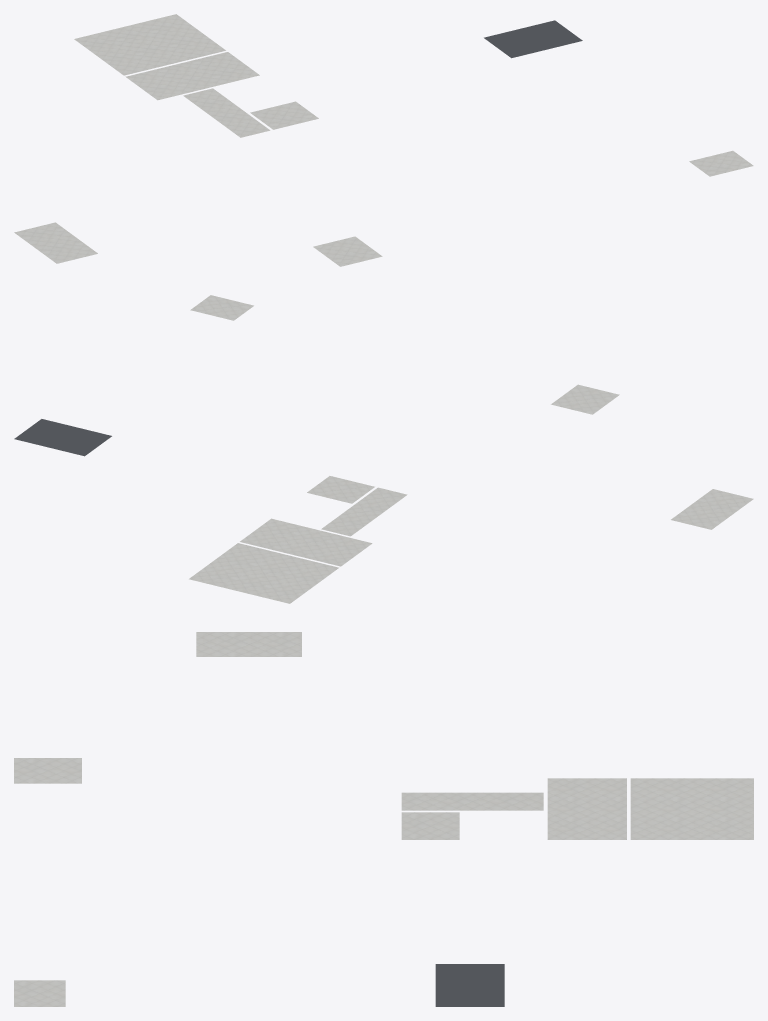
Rendered from 29_n2_servicios_y_bodegas.glb.
The picture shows the model from 3 angles, top to bottom: view 1: azimuth 30°, elevation 25°; view 2: azimuth 150°, elevation 25°; view 3: azimuth 270°, elevation 25°; orthographic projection. The views are drawn at different scales.
Parts seen in each view (by area): view 1: piso · Bodega de simuladores, piso · Taller de ingeniería biomédica · mantenimiento de sim, piso · Bodega de simulación háptica, piso · Moulage y preparación de escenarios, piso · Bodega y carga de cascos, piso · Archivo y consumibles, piso · Ropería, séptico e intendencia, piso · Bodega de UCI; view 2: piso · Bodega de simuladores, piso · Taller de ingeniería biomédica · mantenimiento de sim, piso · Bodega de simulación háptica, piso · Moulage y preparación de escenarios, piso · Bodega y carga de cascos, piso · Archivo y consumibles, piso · Ropería, séptico e intendencia, piso · Bodega de UCI; view 3: piso · Bodega de simuladores, piso · Taller de ingeniería biomédica · mantenimiento de sim, piso · Bodega de simulación háptica, piso · Bodega y carga de cascos, piso · Moulage y preparación de escenarios, piso · Archivo y consumibles, piso · Ropería, séptico e intendencia, piso · Bodega de UCI.
Boxes of the visible parts, x1,y1,x2,y2 form: piso · Bodega de simuladores: (74, 14, 225, 75); piso · Taller de ingeniería biomédica · mantenimiento de sim: (125, 52, 259, 100); piso · Bodega de simulación háptica: (484, 20, 582, 58); piso · Moulage y preparación de escenarios: (14, 222, 97, 263); piso · Bodega y carga de cascos: (183, 88, 270, 137); piso · Archivo y consumibles: (313, 236, 382, 266); piso · Ropería, séptico e intendencia: (250, 101, 318, 129); piso · Bodega de UCI: (689, 150, 753, 176); piso · Bodega de simuladores: (189, 543, 338, 603); piso · Taller de ingeniería biomédica · mantenimiento de sim: (240, 518, 372, 566); piso · Bodega de simulación háptica: (14, 419, 111, 456); piso · Moulage y preparación de escenarios: (671, 489, 753, 529); piso · Bodega y carga de cascos: (321, 487, 407, 536); piso · Archivo y consumibles: (551, 384, 619, 414); piso · Ropería, séptico e intendencia: (307, 476, 374, 503); piso · Bodega de UCI: (190, 295, 253, 320); piso · Bodega de simuladores: (630, 778, 753, 839); piso · Taller de ingeniería biomédica · mantenimiento de sim: (547, 778, 626, 839); piso · Bodega de simulación háptica: (435, 964, 504, 1006); piso · Bodega y carga de cascos: (401, 792, 543, 810); piso · Moulage y preparación de escenarios: (196, 632, 301, 656); piso · Archivo y consumibles: (14, 758, 81, 783); piso · Ropería, séptico e intendencia: (401, 812, 459, 839); piso · Bodega de UCI: (14, 980, 65, 1006).
Size of the model in its own units: 35.25 by 0 by 29.4.
2 materials, 1 textured.
